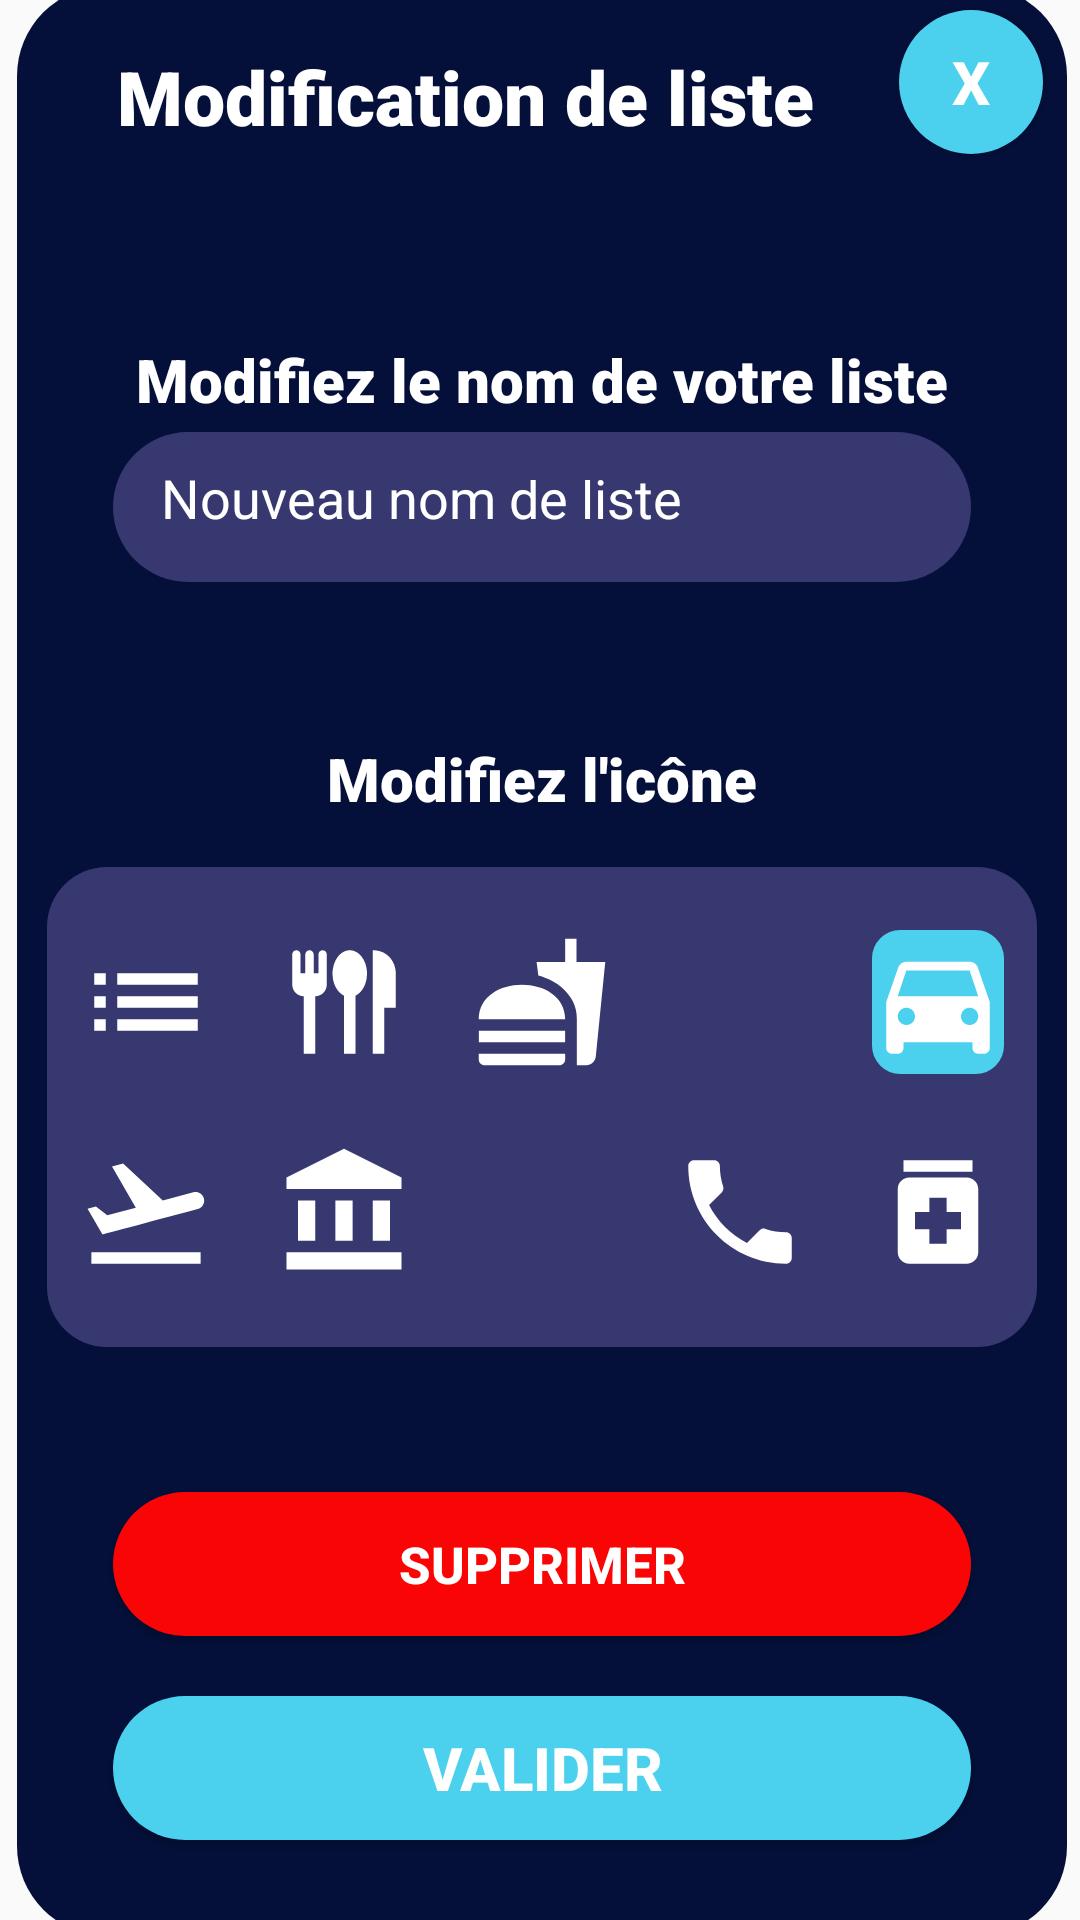

Screen size 1080px x 1920px. Icon name, then its box in pixels as (x1, y1, x2, y2):
account balance: (286, 1149, 402, 1270)
car: (872, 930, 1004, 1074)
fastfood: (478, 938, 606, 1066)
flatware: (292, 950, 396, 1054)
flight: (88, 1163, 205, 1264)
local phone: (688, 1160, 792, 1264)
medication: (897, 1160, 979, 1264)
